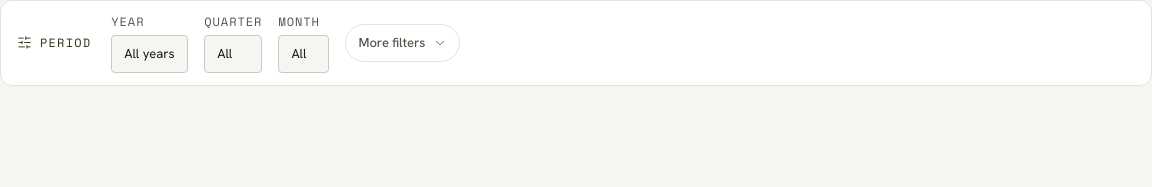
FilterBar › shows the period controls up front and keeps scope filters behind a disclosure
Expected: the dropdown labelled "Year" is shown, [111,35,188,73]
Expected: the dropdown labelled "Quarter" is shown, [204,35,262,73]
Step 1. Click the button "More filters" → x=403, y=43, box [345,24,460,62]
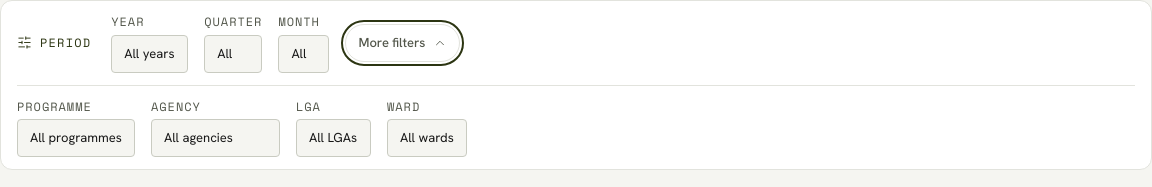
Now the dropdown labelled "LGA" is shown, box [296,119,371,157]
